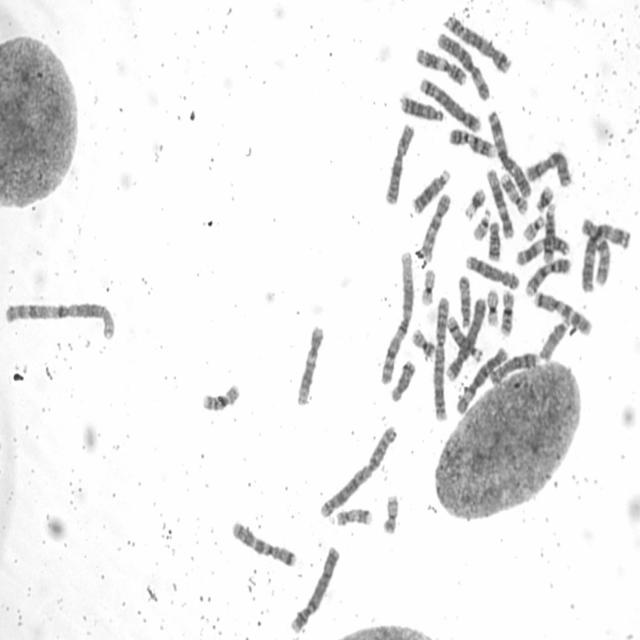A1: (0, 296, 118, 343), (378, 248, 417, 386)
A2: (318, 422, 399, 520), (430, 292, 450, 423)
A3: (485, 107, 532, 199), (578, 219, 632, 293)
B4: (288, 543, 342, 636), (444, 294, 487, 383)
B5: (441, 11, 512, 74), (418, 74, 482, 134)
C10: (416, 190, 452, 261), (580, 216, 612, 289)
C11: (412, 44, 468, 87), (514, 232, 572, 267)
C12: (294, 322, 324, 406), (484, 165, 514, 240)
C6: (435, 30, 491, 104), (453, 344, 510, 416)
C7: (230, 519, 298, 568), (532, 288, 593, 337)
C8: (463, 252, 520, 290), (488, 348, 539, 386)
C9: (522, 255, 572, 298), (447, 124, 497, 160)
D13: (408, 166, 452, 216), (396, 91, 444, 122)
D14: (444, 313, 483, 363), (541, 202, 557, 264)
D15: (537, 316, 570, 361), (456, 273, 472, 330)
E16: (200, 380, 241, 413), (497, 286, 516, 337)
E17: (499, 170, 529, 216), (332, 505, 374, 528)
E18: (388, 356, 416, 403), (486, 219, 502, 263)
F19: (418, 265, 437, 308), (484, 286, 500, 328)
F20: (410, 325, 437, 360), (381, 490, 401, 536)
G21: (462, 186, 488, 220), (534, 182, 555, 213)
G22: (520, 213, 546, 242), (471, 207, 492, 242)
X: (382, 120, 415, 207), (524, 148, 572, 188)
